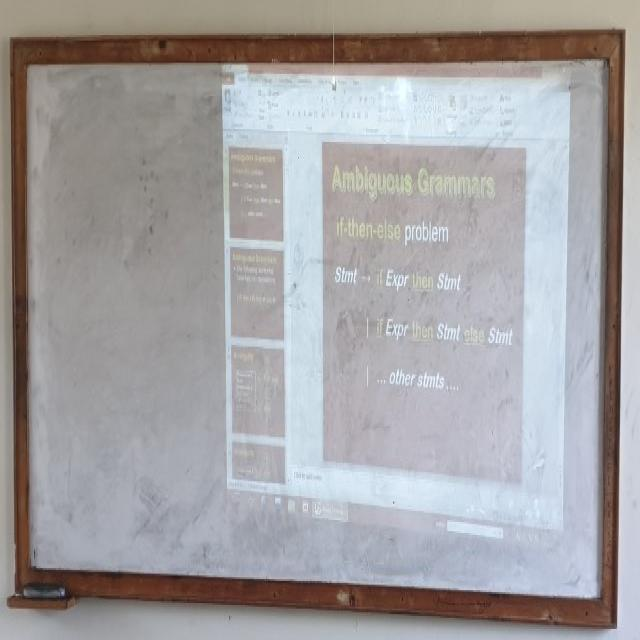Slide: (220, 49, 569, 554)
White-board: (19, 47, 616, 612)
